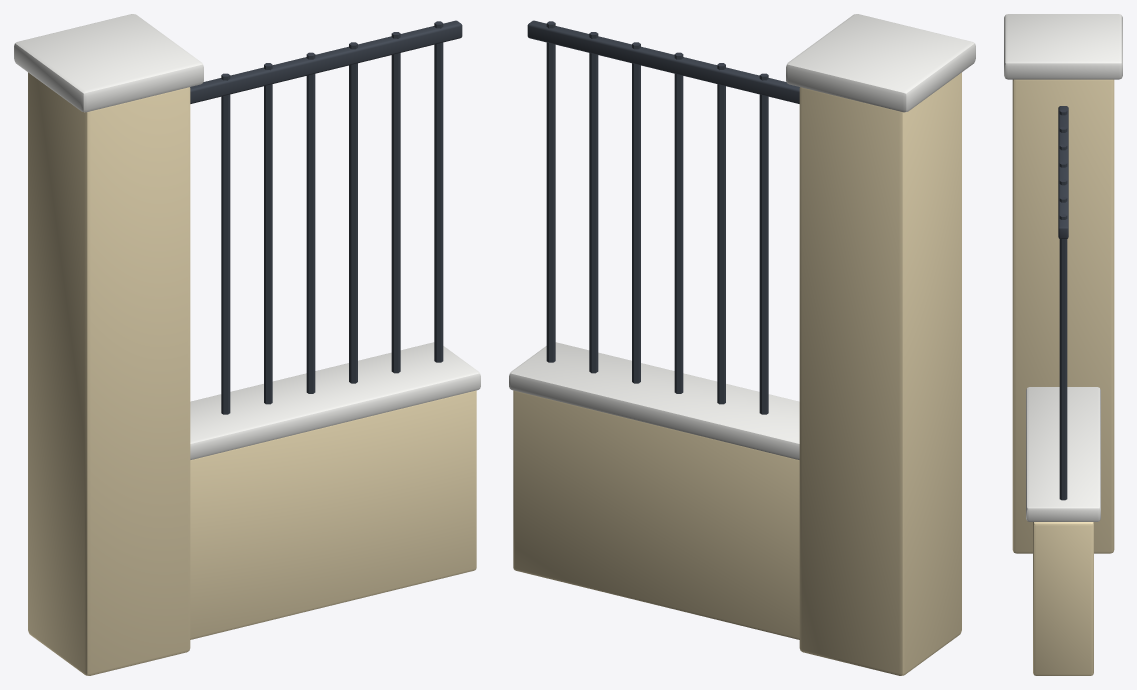
Rendered from cerca_mureta_grade_1m.glb.
The picture shows the model from 3 angles, left to right: view 1: azimuth 30°, elevation 25°; view 2: azimuth 150°, elevation 25°; view 3: azimuth 270°, elevation 25°; orthographic projection. The views are drawn at different scales.
Visible parts, largest first — view 1: cerca_mureta_grade_1m; view 2: cerca_mureta_grade_1m; view 3: cerca_mureta_grade_1m.
Part boxes in pixels (x1=…): cerca_mureta_grade_1m: x1=14, y1=14, x2=480, y2=675; cerca_mureta_grade_1m: x1=509, y1=14, x2=975, y2=675; cerca_mureta_grade_1m: x1=1004, y1=14, x2=1122, y2=675.
Size of the model in its own units: 1.17 by 1.61 by 0.35.
Materials: 1 (1 with a texture image).
